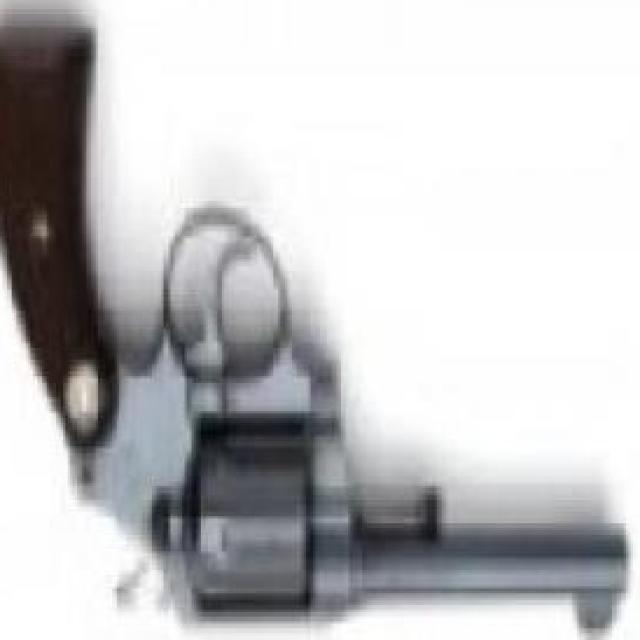pistol: (0, 23, 626, 640)
